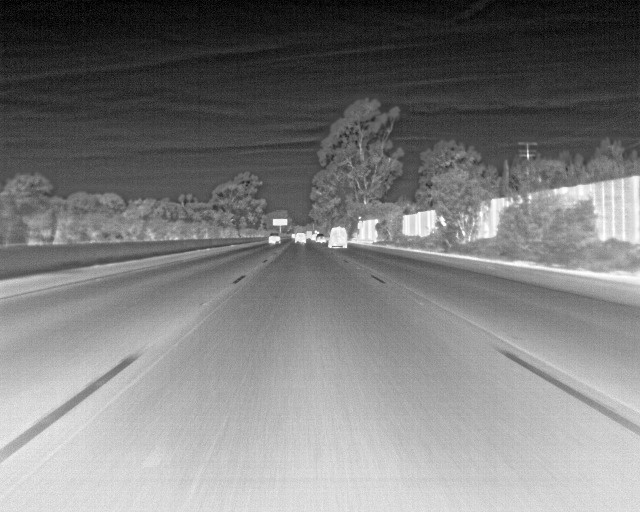vehicle: (328, 224, 348, 252)
